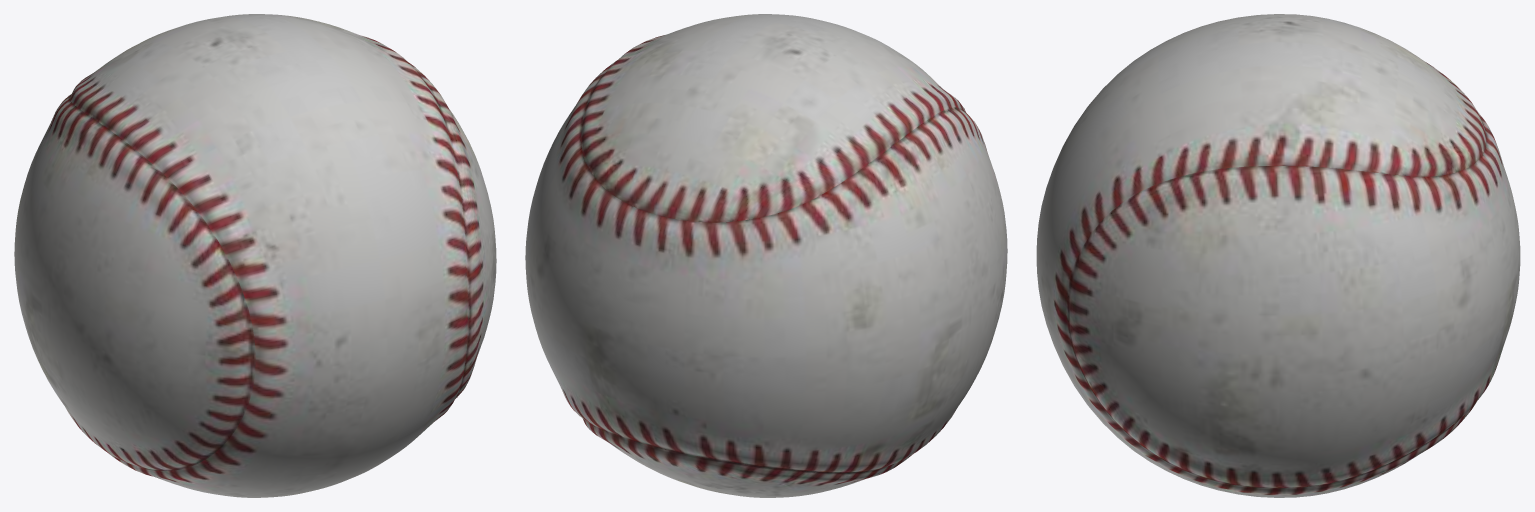
The picture shows the model from 3 angles, left to right: view 1: azimuth 30°, elevation 25°; view 2: azimuth 150°, elevation 25°; view 3: azimuth 270°, elevation 25°; orthographic projection.
Visible parts, largest first — view 1: baseball_01; view 2: baseball_01; view 3: baseball_01.
Part boxes in pixels (left/top/right/bottom): baseball_01: left=14, top=14, right=496, bottom=497; baseball_01: left=525, top=14, right=1007, bottom=497; baseball_01: left=1036, top=14, right=1520, bottom=497.
Size of the model in its own units: 0.0735 by 0.0753 by 0.0752.
1 material, 1 textured.
